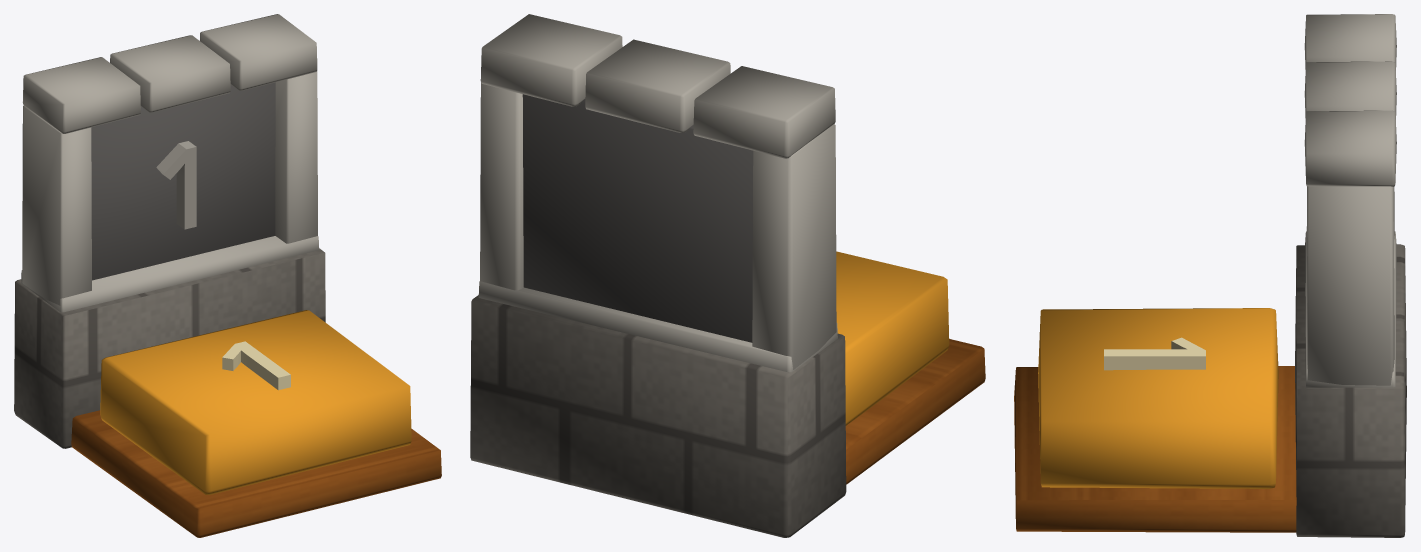
Rendered from 32_array_tile_1.glb.
3 renders of one model, left to right at view 1: azimuth 30°, elevation 25°; view 2: azimuth 150°, elevation 25°; view 3: azimuth 270°, elevation 25°, orthographic. The views are drawn at different scales.
Parts seen in each view (by area): view 1: GoldBlock, WallBackPanel, WallPlinth, TileBase, WallPillar_-1, WallPillar_1, WallTopCap_0, WallTopCap_1, WallSill, WallTopCap_2, WallDigit, TileDigit; view 2: WallPlinth, WallBackPanel, WallPillar_-1, GoldBlock, WallTopCap_0, WallTopCap_1, WallPillar_1, WallTopCap_2, TileBase, WallSill; view 3: GoldBlock, WallPlinth, TileBase, WallPillar_1, WallTopCap_2, WallTopCap_1, WallTopCap_0, TileDigit, WallSill.
Boxes of the visible parts, x1,y1,x2,y2 form: GoldBlock: (100,310,411,494); WallBackPanel: (91,82,275,280); WallPlinth: (14,248,325,448); TileBase: (71,410,441,537); WallPillar_-1: (22,105,91,305); WallPillar_1: (275,71,317,243); WallTopCap_0: (22,57,140,133); WallTopCap_1: (110,35,230,112); WallSill: (21,236,319,312); WallTopCap_2: (200,14,317,90); WallDigit: (156,141,196,229); TileDigit: (222,341,290,390); WallPlinth: (470,295,846,537); WallBackPanel: (522,94,753,342); WallPillar_-1: (752,124,836,369); GoldBlock: (836,251,949,425); WallTopCap_0: (693,66,835,158); WallTopCap_1: (585,39,730,132); WallPillar_1: (480,82,523,290); WallTopCap_2: (480,14,622,106); TileBase: (845,339,985,484); WallSill: (478,281,837,372); GoldBlock: (1038,308,1278,488); WallPlinth: (1295,244,1406,537); TileBase: (1014,366,1296,532); WallPillar_1: (1306,186,1394,385); WallTopCap_2: (1304,110,1396,186); WallTopCap_1: (1304,61,1396,119); WallTopCap_0: (1304,14,1396,70); TileDigit: (1104,337,1205,370); WallSill: (1305,231,1396,387).
Bounding box in the file's own units: 0.86 × 1.06 × 0.98.
Materials: 6 (2 with a texture image).
